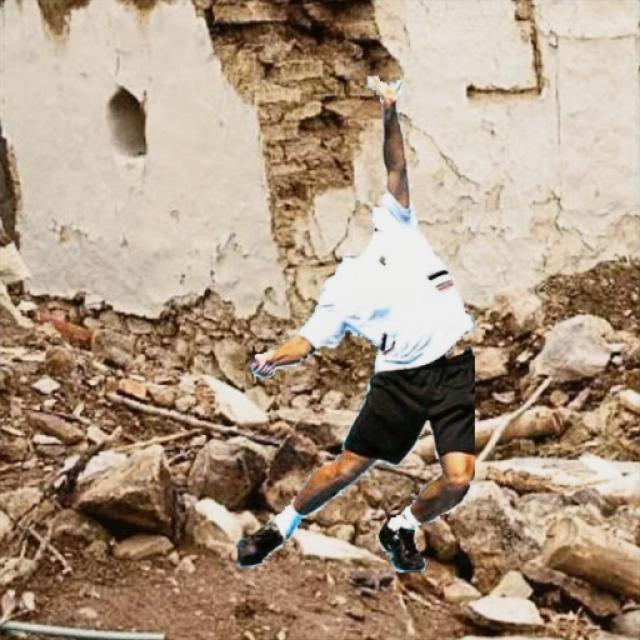Person in Rubble: (236, 76, 474, 572)
